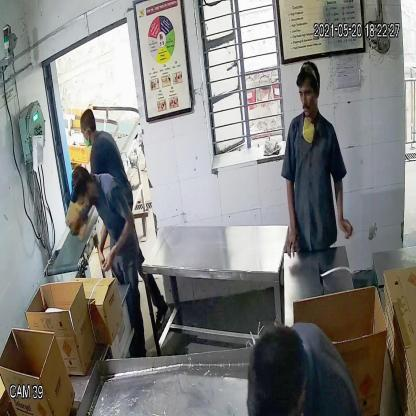no_goggles: (296, 82, 319, 103)
